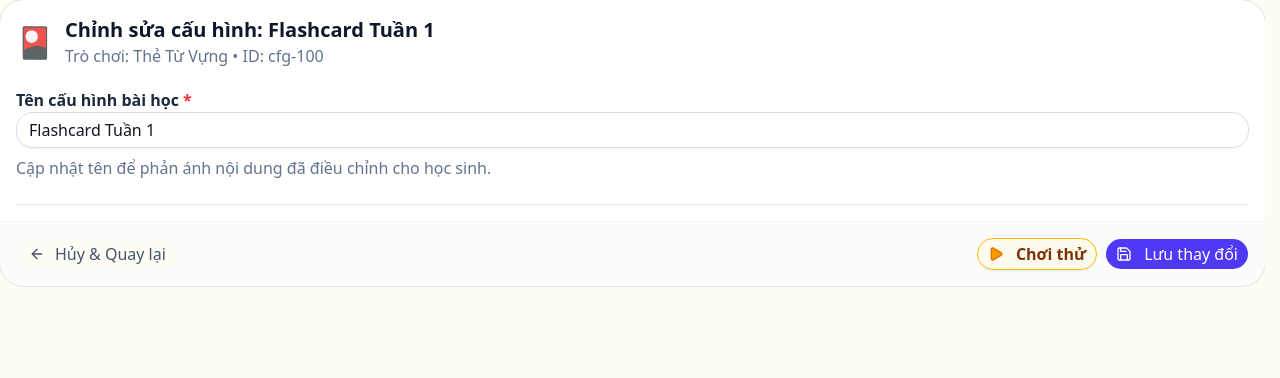
ConfigEditForm Component › displays error in alert banner when preview validation fails
The image size is (1280, 378).
Click the button "Chơi thử" at point(1037, 254), box [977,238,1097,270]
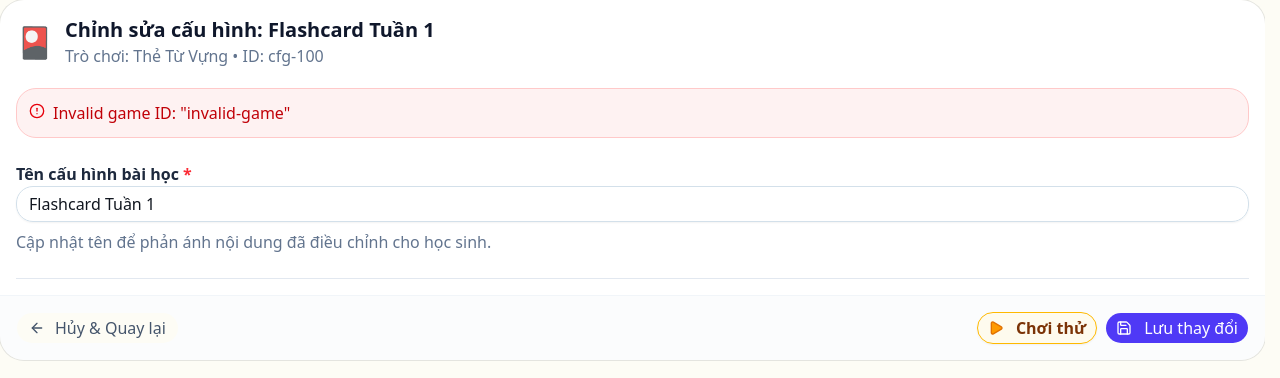
Expected: the message shows "Invalid game ID", [53,102,290,124]
